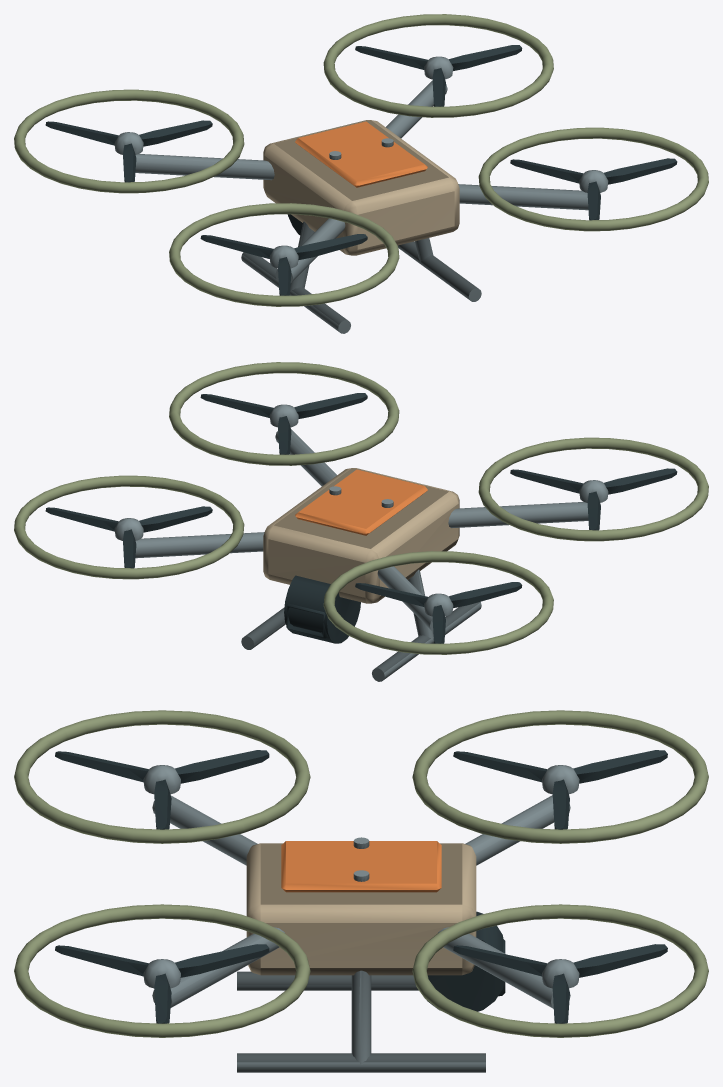
File: LookoutDrone.glb
3 renders of one model, top to bottom at view 1: azimuth 30°, elevation 25°; view 2: azimuth 150°, elevation 25°; view 3: azimuth 270°, elevation 25°, orthographic. The views are drawn at different scales.
Parts seen in each view (by area): view 1: export_LookoutDrone_BatteryBody, export_LookoutDrone_Fan_Rotor2_Spinner, export_LookoutDrone_Fan_Rotor0_Spinner, export_LookoutDrone_Fan_Rotor1_Spinner, export_LookoutDrone_Fan_Rotor3_Spinner; view 2: export_LookoutDrone_BatteryBody, export_LookoutDrone_Fan_Rotor0_Spinner, export_LookoutDrone_Fan_Rotor1_Spinner, export_LookoutDrone_Fan_Rotor2_Spinner, export_LookoutDrone_Fan_Rotor3_Spinner; view 3: export_LookoutDrone_BatteryBody, export_LookoutDrone_Fan_Rotor2_Spinner, export_LookoutDrone_Fan_Rotor0_Spinner, export_LookoutDrone_Fan_Rotor1_Spinner, export_LookoutDrone_Fan_Rotor3_Spinner.
Part boxes in pixels (left/top/right/bottom): export_LookoutDrone_BatteryBody: left=14, top=14, right=708, bottom=333; export_LookoutDrone_Fan_Rotor2_Spinner: left=510, top=158, right=677, bottom=220; export_LookoutDrone_Fan_Rotor0_Spinner: left=200, top=234, right=367, bottom=295; export_LookoutDrone_Fan_Rotor1_Spinner: left=45, top=120, right=212, bottom=182; export_LookoutDrone_Fan_Rotor3_Spinner: left=355, top=45, right=522, bottom=106; export_LookoutDrone_BatteryBody: left=14, top=362, right=708, bottom=681; export_LookoutDrone_Fan_Rotor0_Spinner: left=510, top=468, right=677, bottom=530; export_LookoutDrone_Fan_Rotor1_Spinner: left=355, top=582, right=522, bottom=643; export_LookoutDrone_Fan_Rotor2_Spinner: left=200, top=393, right=367, bottom=454; export_LookoutDrone_Fan_Rotor3_Spinner: left=45, top=506, right=212, bottom=568; export_LookoutDrone_BatteryBody: left=14, top=710, right=708, bottom=1072; export_LookoutDrone_Fan_Rotor2_Spinner: left=55, top=944, right=269, bottom=1023; export_LookoutDrone_Fan_Rotor0_Spinner: left=55, top=750, right=269, bottom=829; export_LookoutDrone_Fan_Rotor1_Spinner: left=453, top=750, right=667, bottom=829; export_LookoutDrone_Fan_Rotor3_Spinner: left=453, top=944, right=667, bottom=1023.
Size of the model in its own units: 2.73 by 0.693 by 2.51.
